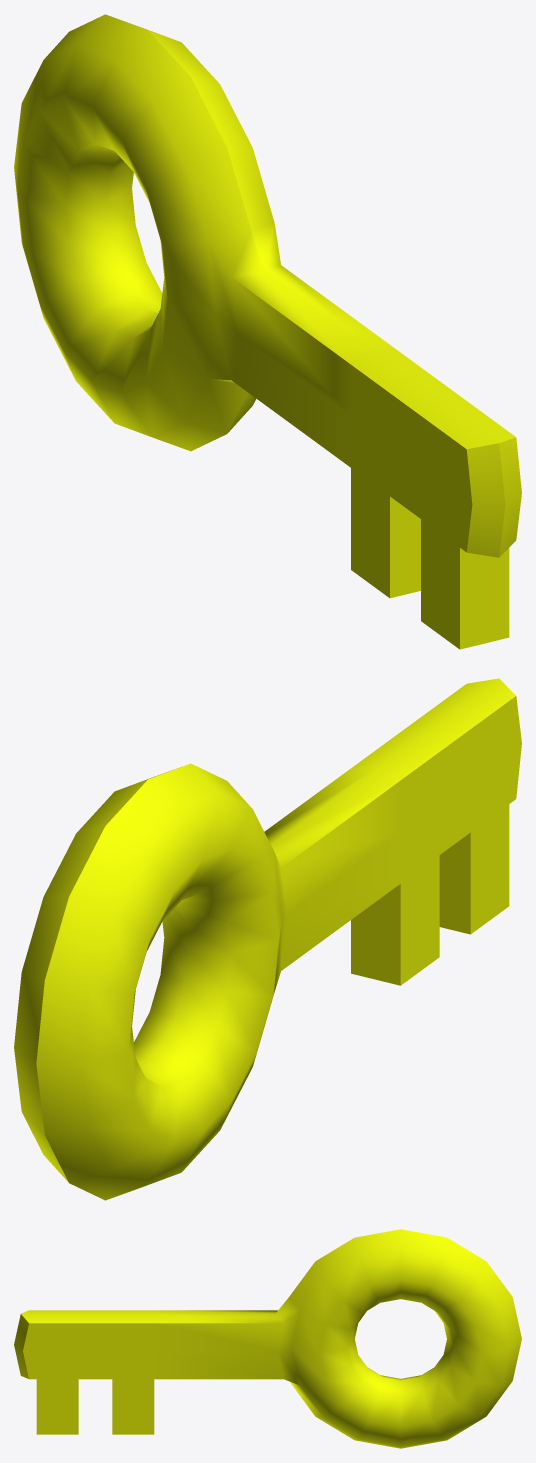
File: key.fbx
The picture shows the model from 3 angles, top to bottom: view 1: azimuth 30°, elevation 25°; view 2: azimuth 150°, elevation 25°; view 3: azimuth 270°, elevation 25°; orthographic projection. The views are drawn at different scales.
Visible parts, largest first — view 1: key; view 2: key; view 3: key.
Part boxes in pixels (x1,y1,x2,y2): key: (14, 14, 521, 649); key: (14, 678, 521, 1200); key: (14, 1229, 521, 1448).
Size of the model in its own units: 7.45 by 26.1 by 54.76.
Materials: 1 (1 with a texture image).
